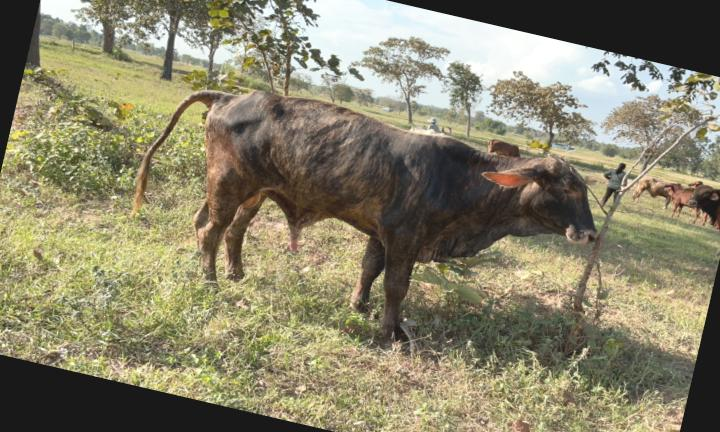Charolais: (134, 90, 597, 343)
